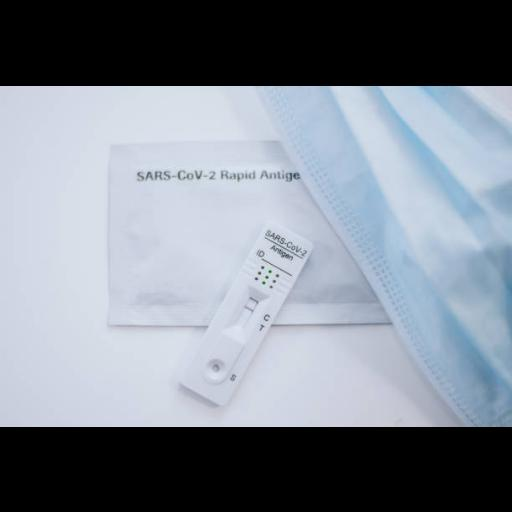Neg: (175, 217, 316, 406)
